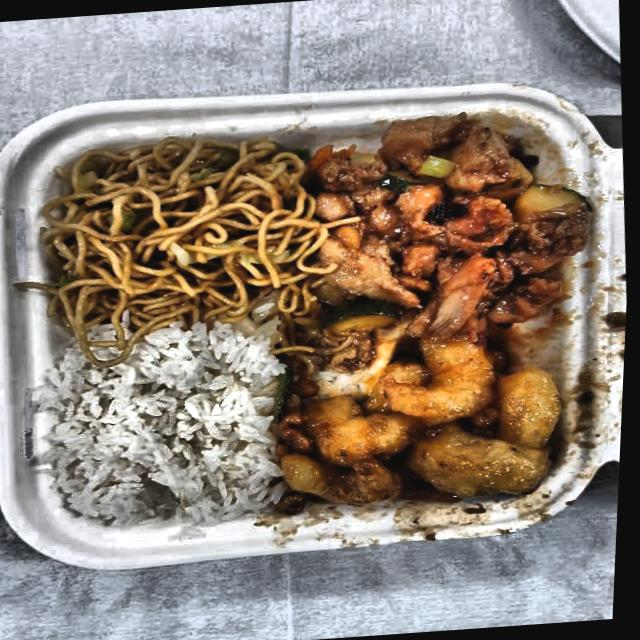Food: (305, 109, 599, 359), (269, 328, 597, 536), (34, 126, 327, 340), (38, 323, 295, 532)
